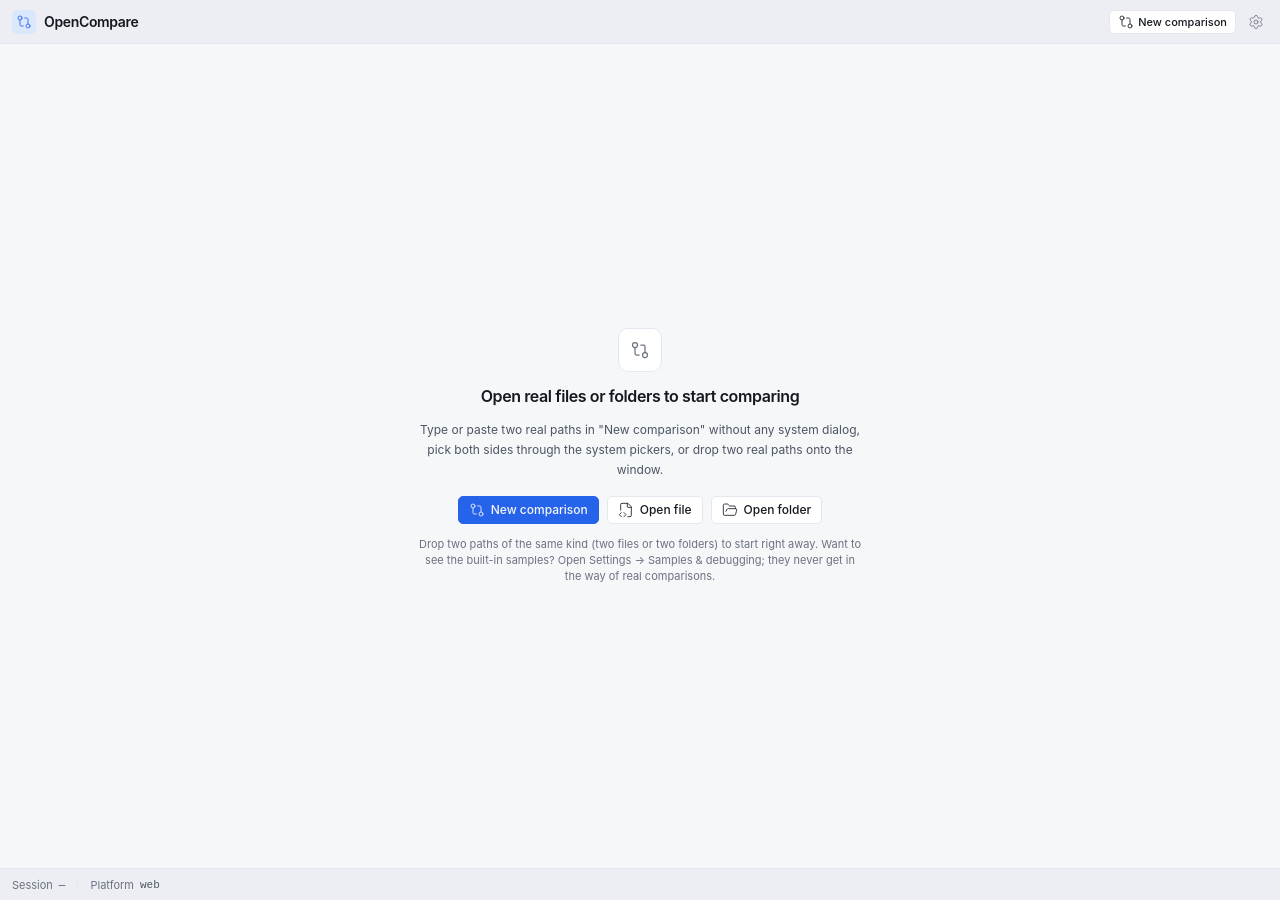
Test: settings theme section › lists the three modes under an i18n-labelled group and marks the active one
Check: the heading "Open real files or folders to start comparing" is shown, box [481,384,799,408]
Click the button named "Open settings" at (1256, 22), box [1244,10,1268,34]
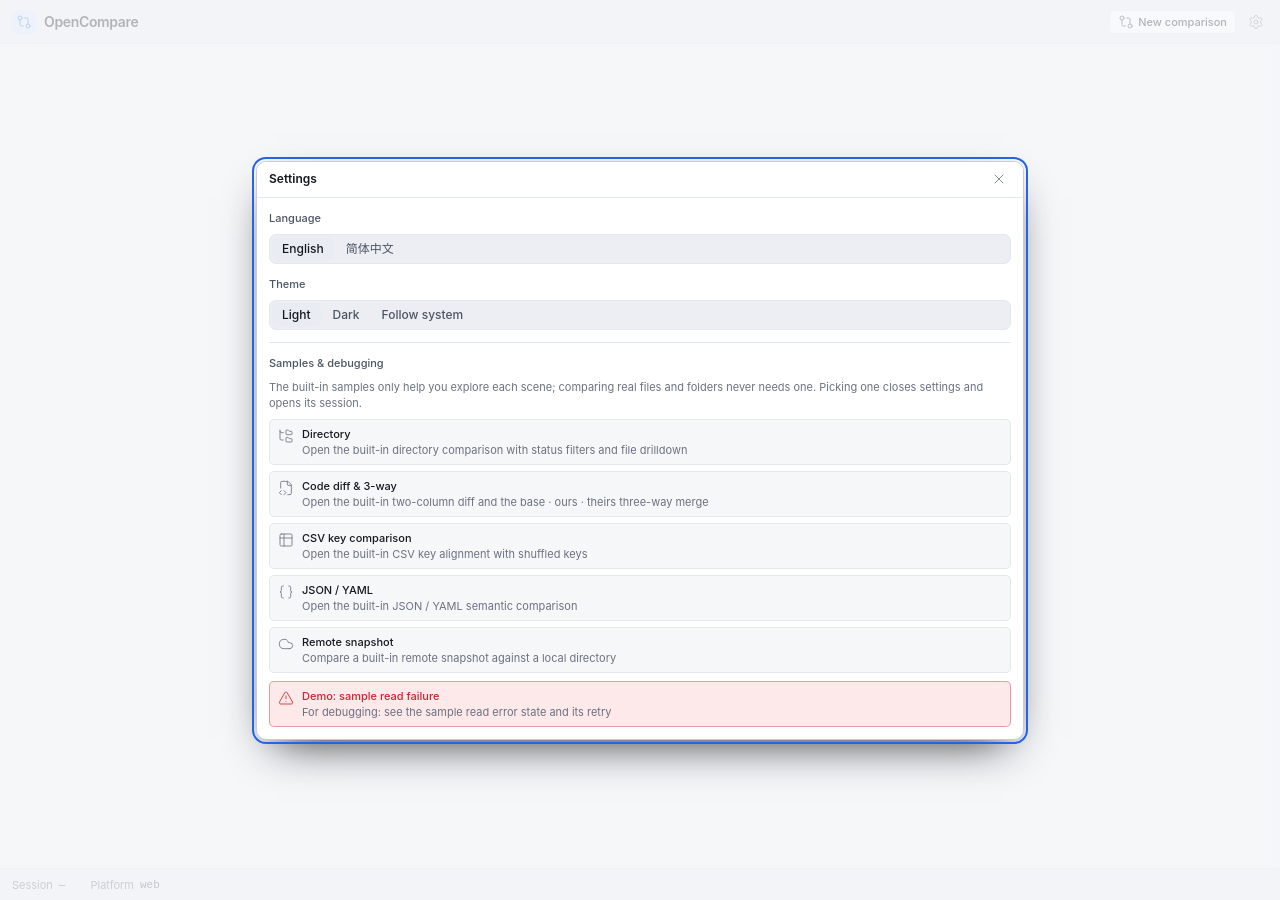
Check: the tabs read "Light", "Dark", "Follow system", in this order, box [272,302,320,326]; [322,302,370,326]; [372,302,473,326]
